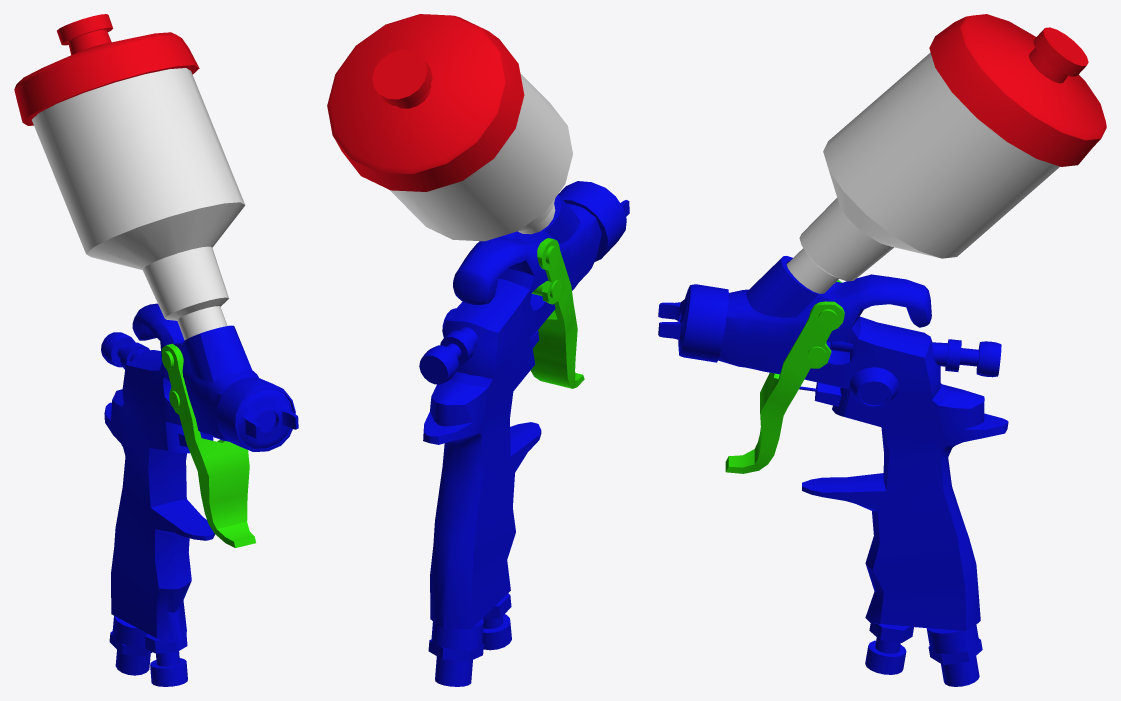
File: SprayGun.fbx
The picture shows the model from 3 angles, left to right: view 1: azimuth 30°, elevation 25°; view 2: azimuth 150°, elevation 25°; view 3: azimuth 270°, elevation 25°; orthographic projection. The views are drawn at different scales.
Visible parts, largest first — view 1: Cube, Cylinder.001, Cylinder.002, Cube.001; view 2: Cube, Cylinder.002, Cylinder.001, Cube.001; view 3: Cube, Cylinder.001, Cylinder.002, Cube.001.
Part boxes in pixels (x1,y1,x2,y2): Cube: (101,303,298,686); Cylinder.001: (32,68,245,340); Cylinder.002: (14,14,199,125); Cube.001: (161,343,255,547); Cube: (419,181,629,686); Cylinder.002: (327,14,524,191); Cylinder.001: (390,73,572,241); Cube.001: (530,238,584,388); Cube: (658,256,1008,686); Cylinder.001: (786,52,1059,293); Cylinder.002: (929,14,1106,166); Cube.001: (725,280,844,473).
Bounding box in the file's own units: 0.0833 × 0.3109 × 0.193.
